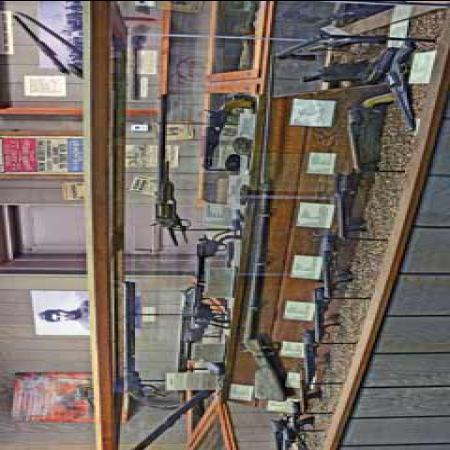Pistol: (324, 91, 410, 179), (300, 228, 394, 293), (316, 166, 396, 242), (285, 273, 369, 341), (170, 222, 246, 292), (290, 316, 354, 384)
